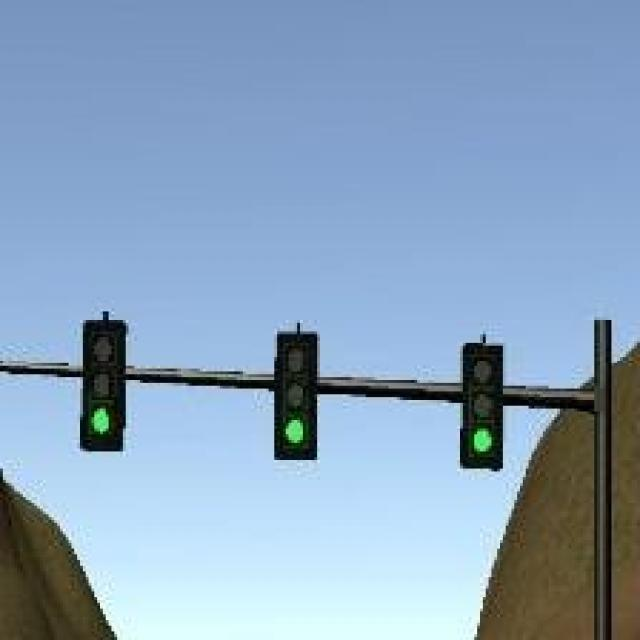green_light: (277, 331, 320, 459), (83, 317, 123, 452), (463, 346, 503, 472)
